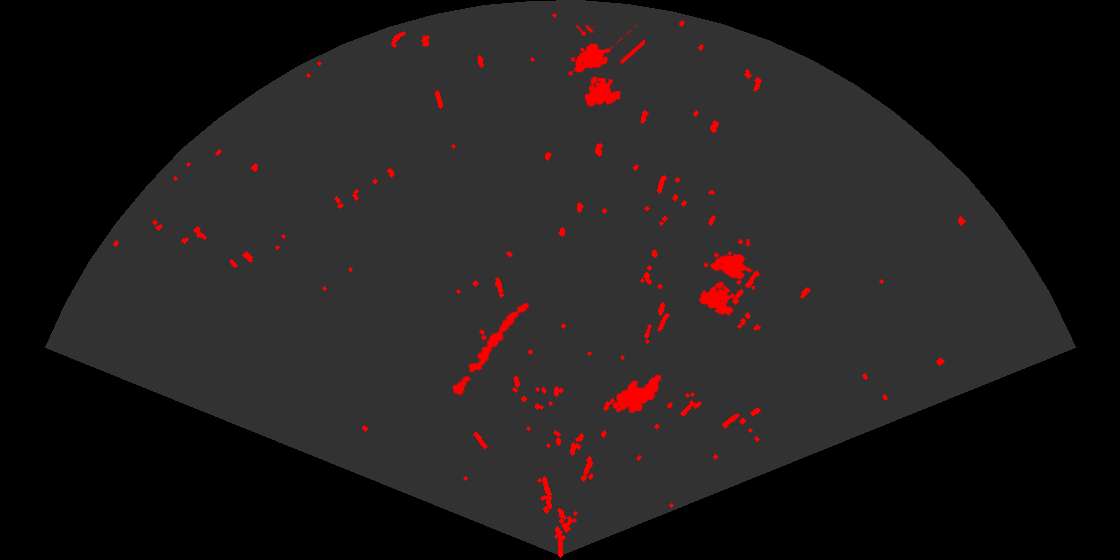AUV: (611, 373, 663, 415)
cage: (567, 25, 645, 108), (697, 239, 755, 318)
chain: (451, 301, 531, 397)
